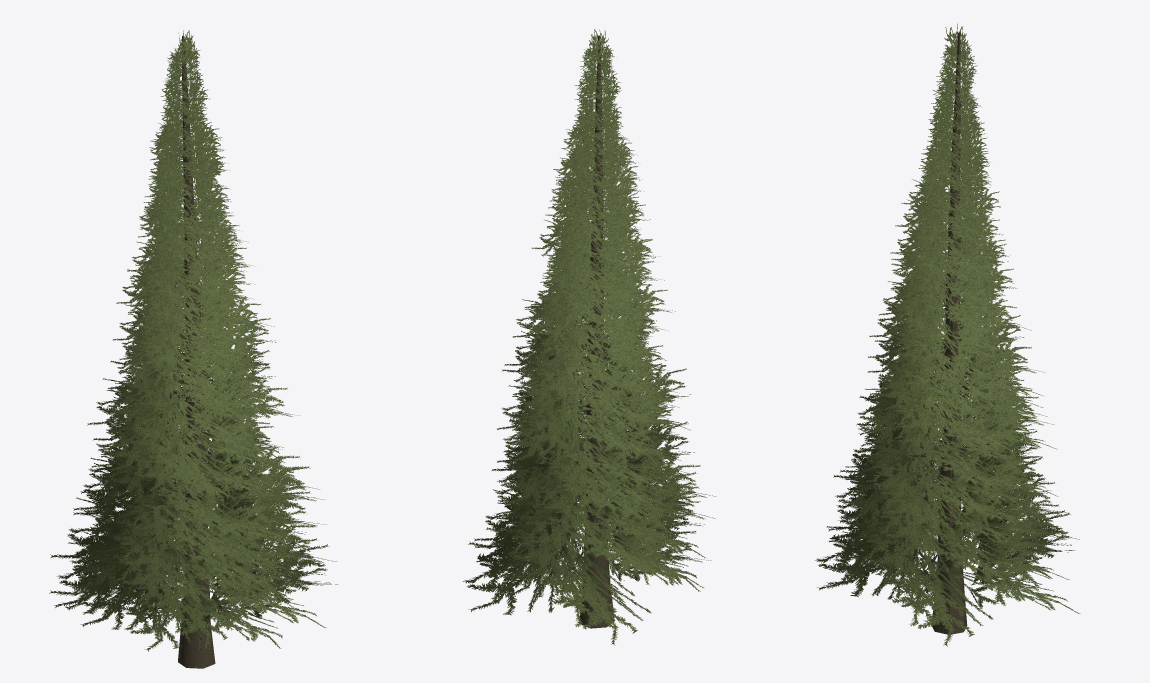
File: SM_Spruce_01_LOD.gltf
3 renders of one model, left to right at view 1: azimuth 30°, elevation 25°; view 2: azimuth 150°, elevation 25°; view 3: azimuth 270°, elevation 25°, orthographic. The views are drawn at different scales.
Visible parts, largest first — view 1: SM_Spruce_01_LOD; view 2: SM_Spruce_01_LOD; view 3: SM_Spruce_01_LOD.
Part boxes in pixels (x1,y1,x2,y2): SM_Spruce_01_LOD: (49, 30, 337, 668); SM_Spruce_01_LOD: (463, 29, 716, 645); SM_Spruce_01_LOD: (815, 23, 1080, 646).
Size of the model in its own units: 8.12 by 15.44 by 8.36.
Materials: 2 (2 with a texture image).
